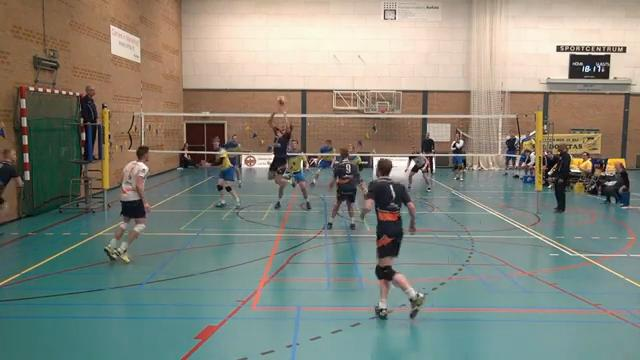Player: (361, 159, 425, 318), (104, 146, 150, 262), (327, 148, 359, 229), (205, 137, 239, 207), (287, 139, 310, 209), (0, 149, 22, 212), (310, 140, 335, 186), (405, 147, 430, 191), (223, 134, 241, 187), (348, 144, 366, 195)
Set: (264, 107, 296, 190)
ball: (275, 96, 286, 105)
